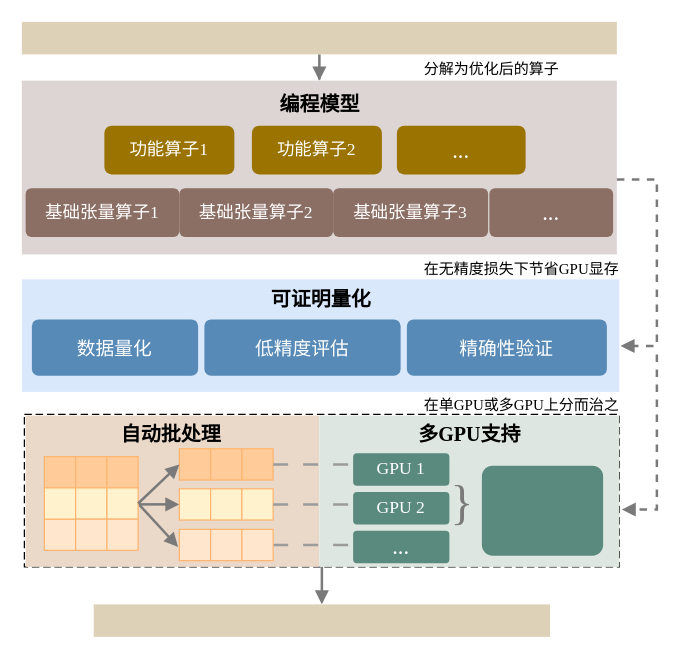
Some shapes in this 689 by 658 pixel diagram are drawn without their labels. Each missing label, with the box of its shape:
异常检测任务: (21, 21, 616, 54)
结果聚合: (481, 465, 602, 555)
输入任务的异常分数: (93, 604, 549, 636)
